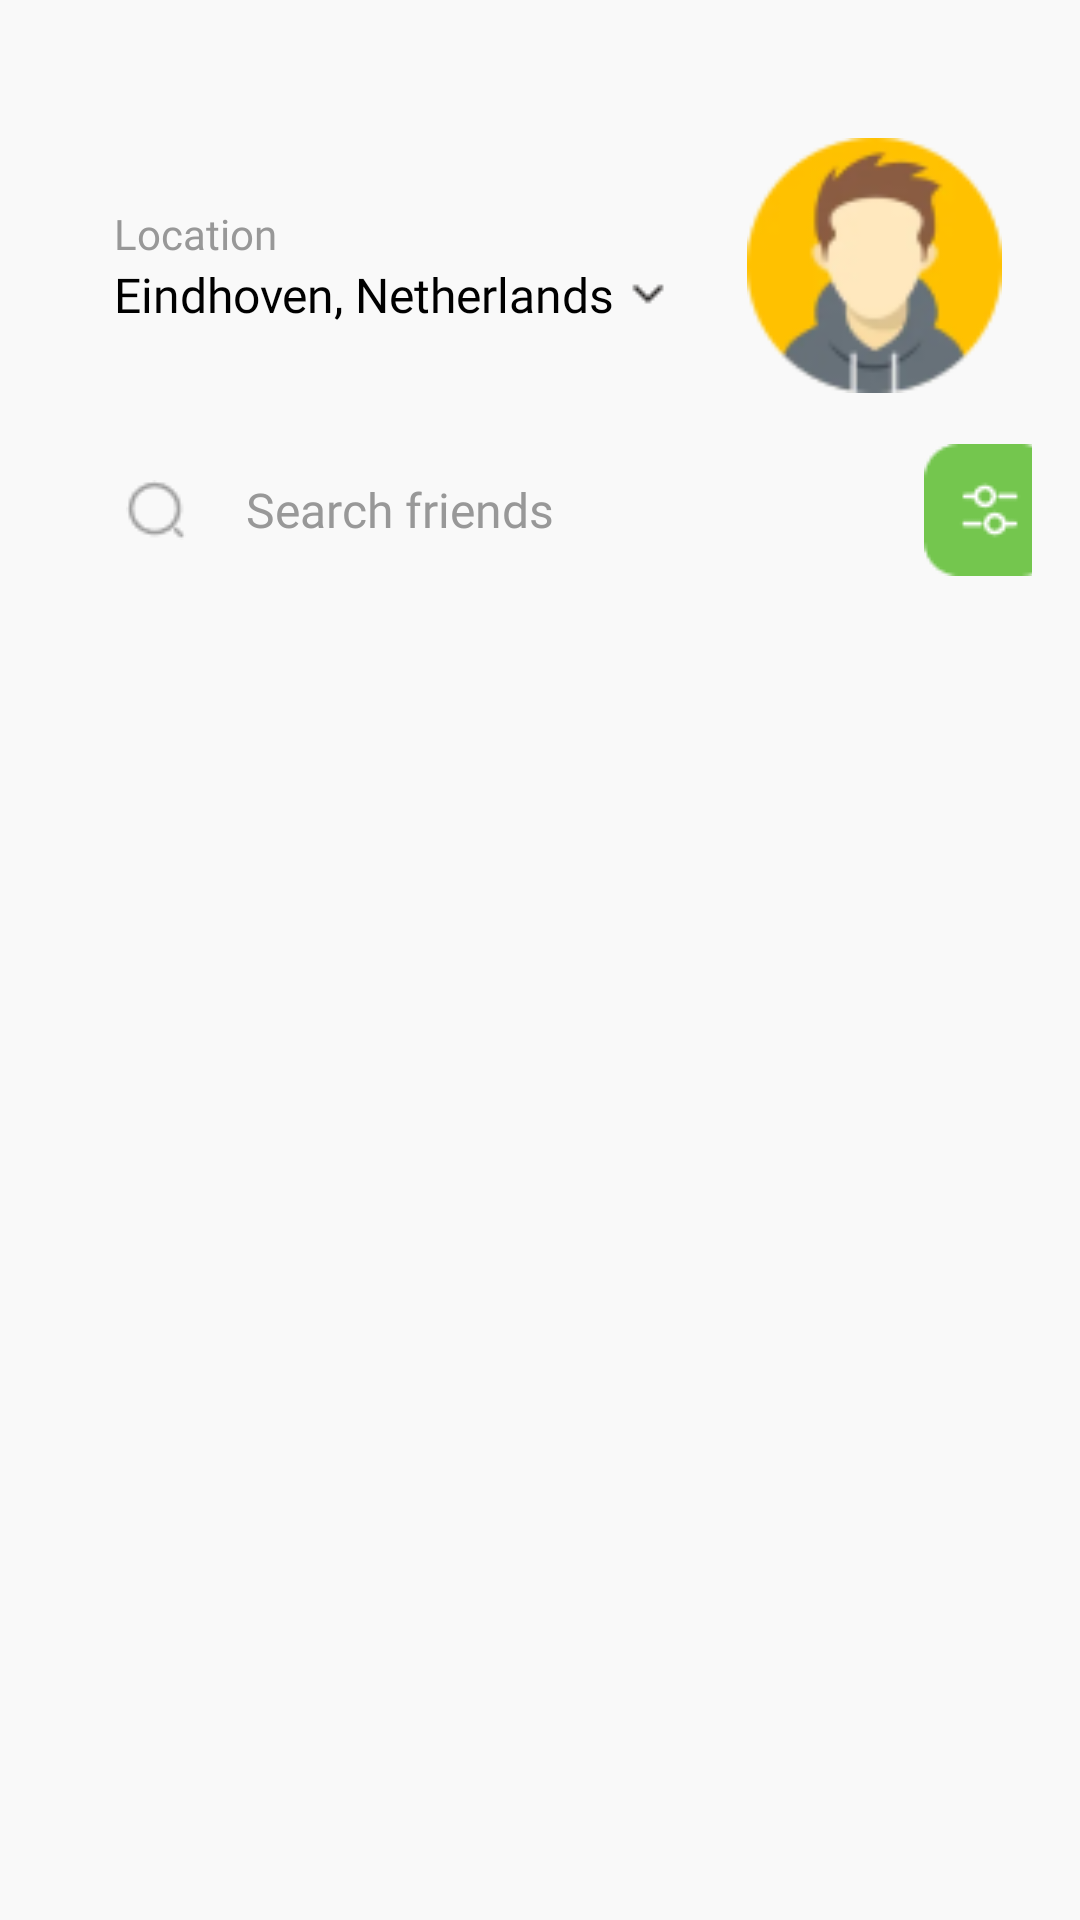

Icon bounding boxes for this 1080×1920 phone screenshot, format (x1, y1, x2, y2):
profile pic: (747, 138, 1002, 393)
